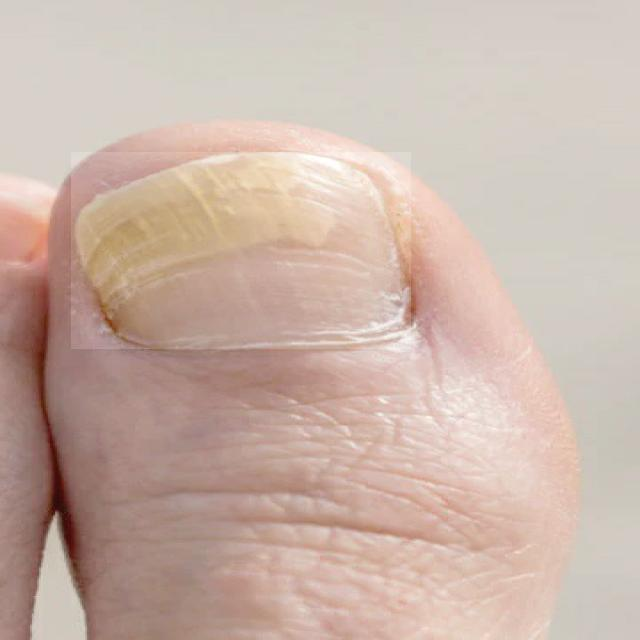diabetes: (71, 153, 411, 349)
